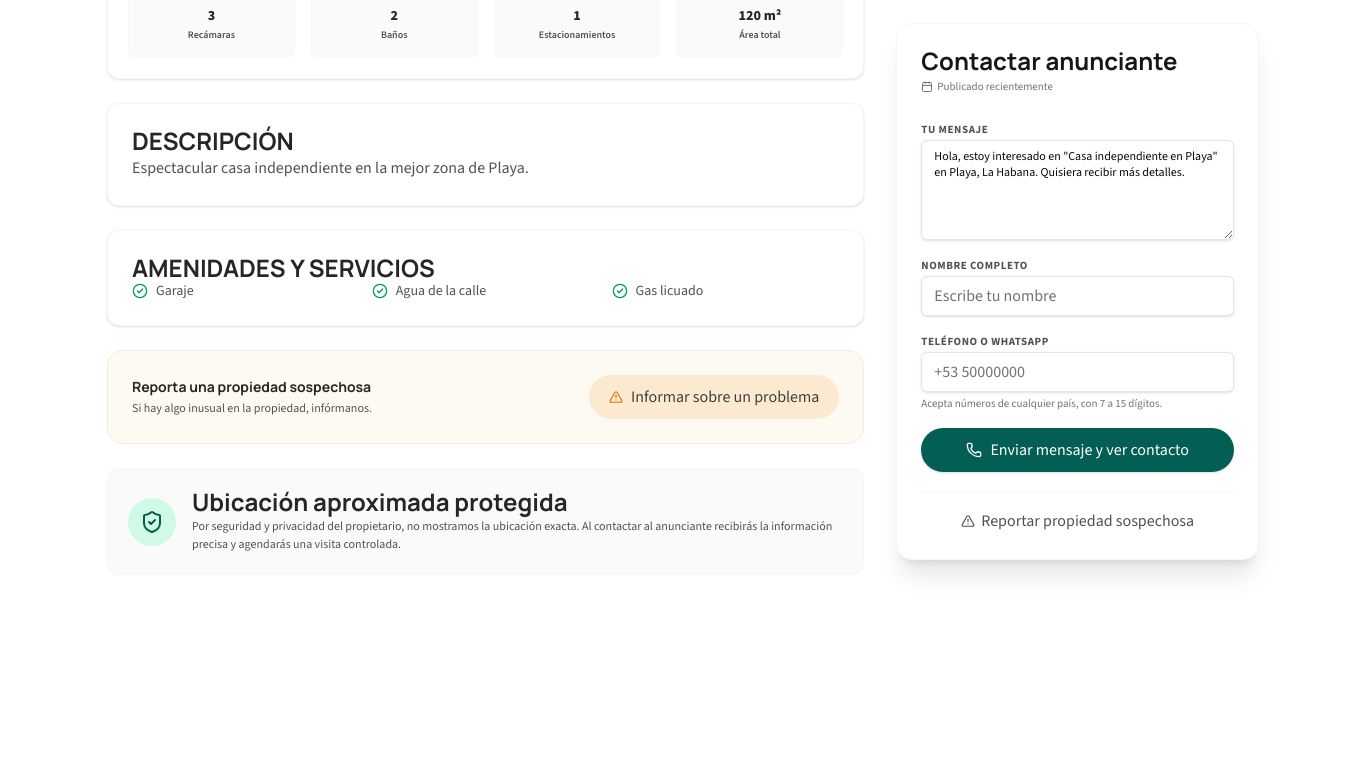
Test: DetailPage - Reportes y Visor › debería enviar el reporte mediante el endpoint protegido al rellenar el formulario
(page scrolled)
# Abrir modal
Click the button "Reportar propiedad sospechosa" at [1078, 521], box [961,509,1194,533]
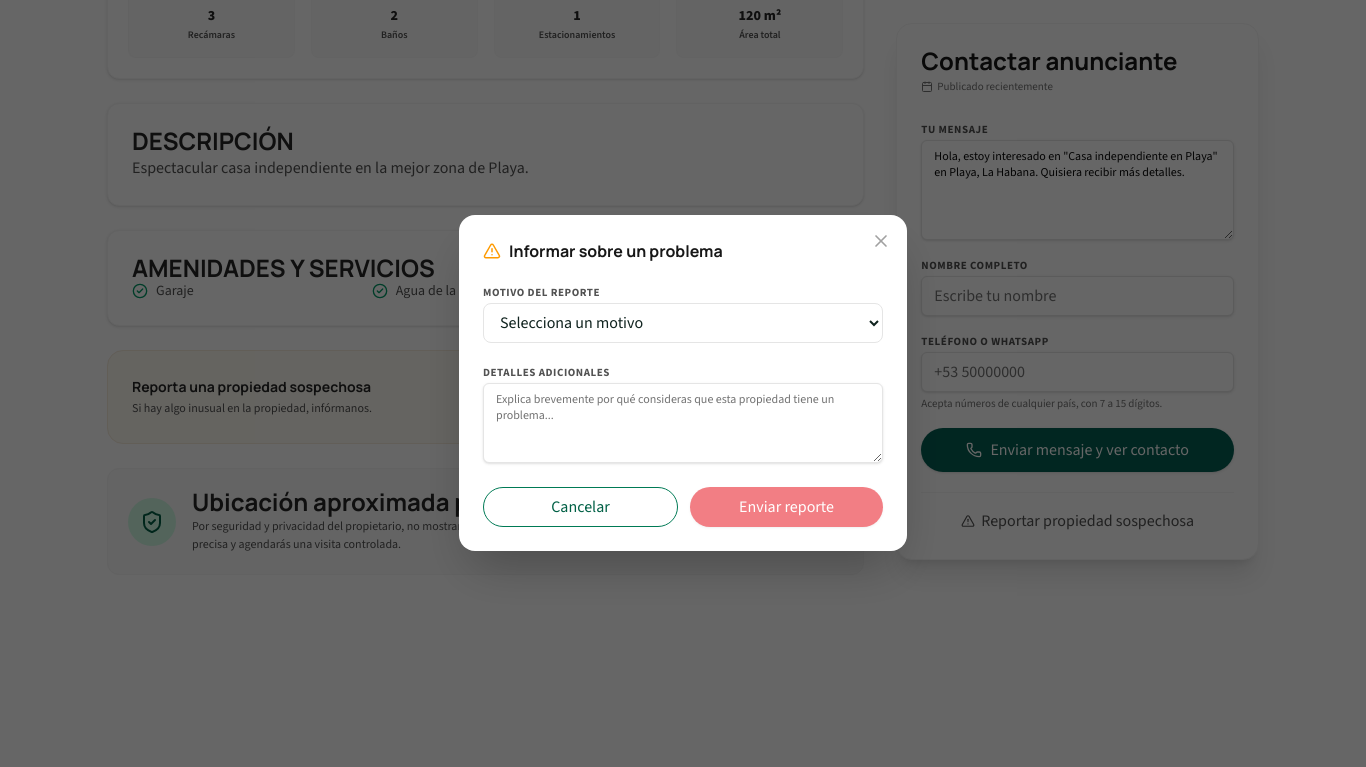
# Seleccionar motivo
Select "Fraude o estafa" in the dropdown at [683, 323], box [483,303,883,343]
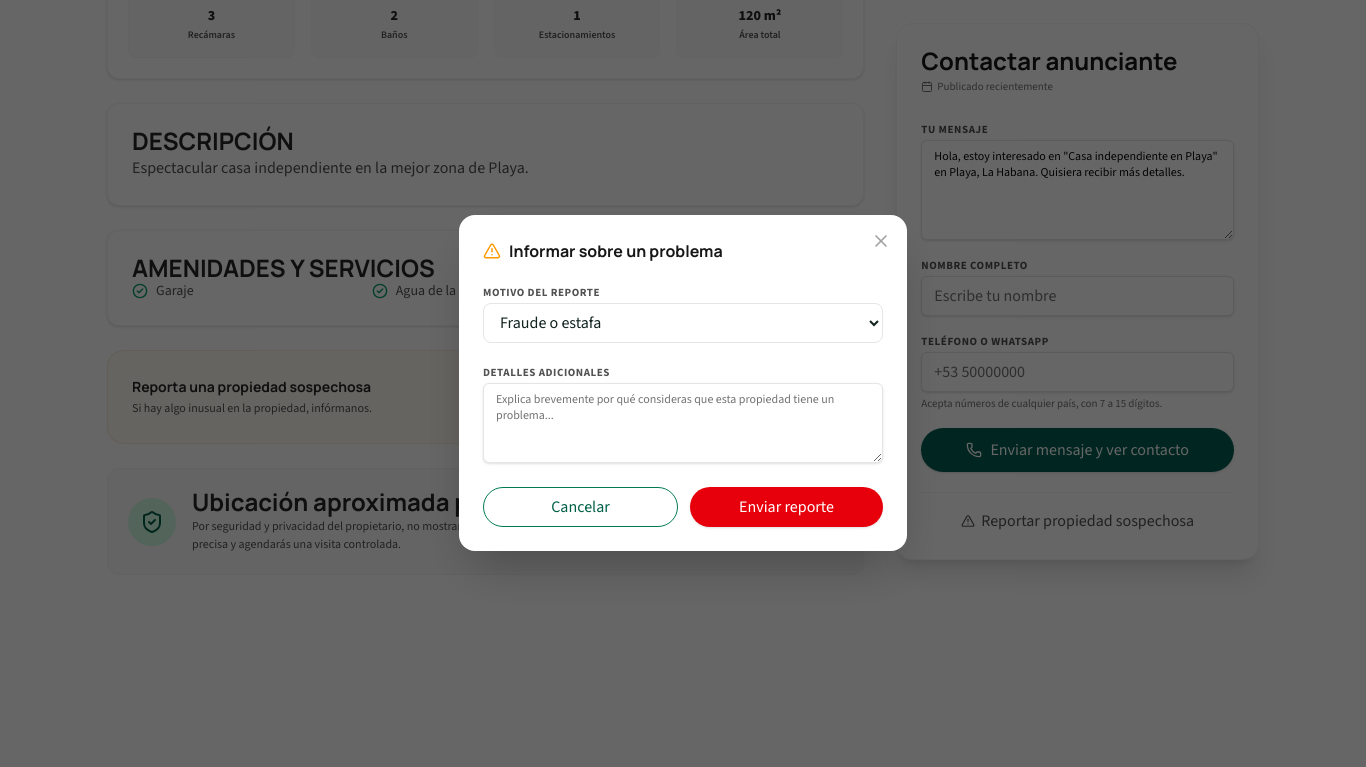
# Escribir comentarios adicionales
Replace the text in the text box with placeholder "Explica brevemente" with "Esta casa no es del anunciante actual." at [683, 423], box [483,383,883,463]
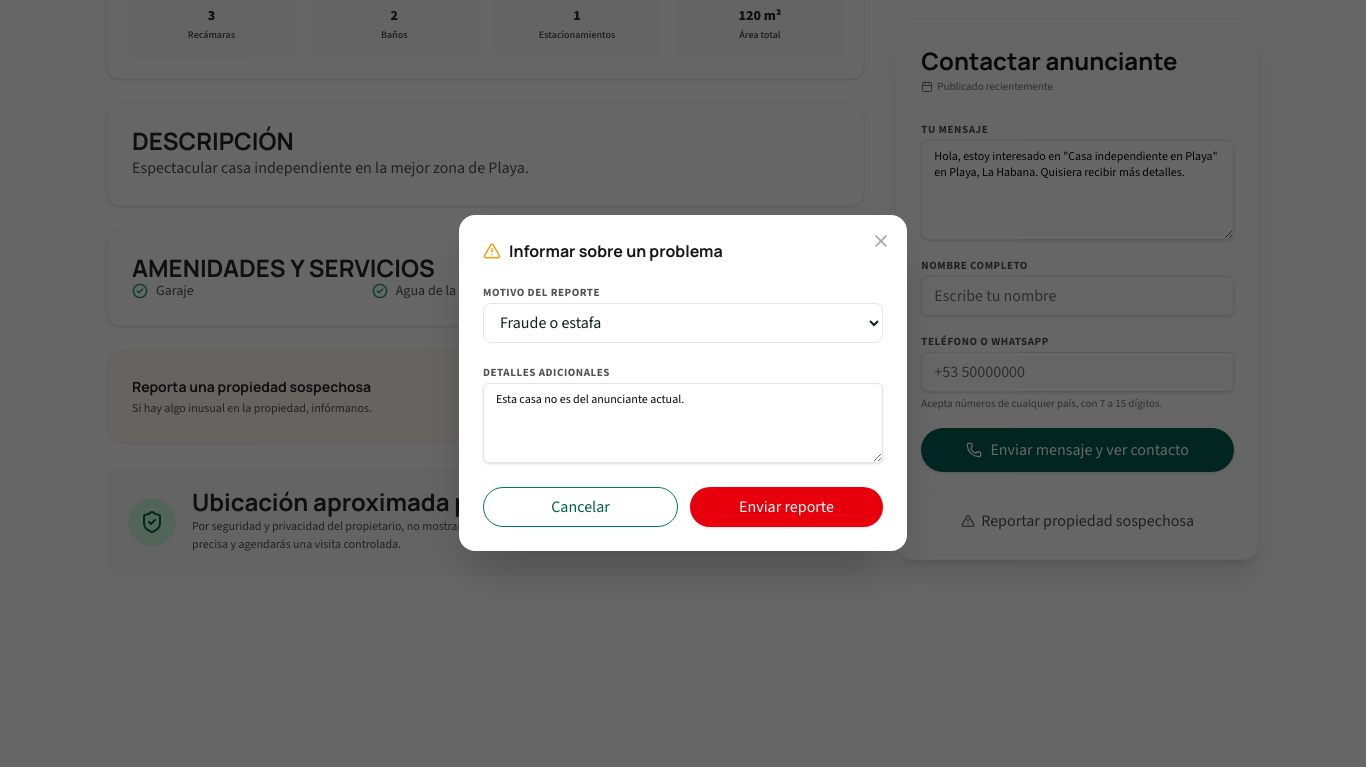
# Hacer clic en Enviar
Click the button "Enviar reporte" at [786, 507], box [690,487,883,527]
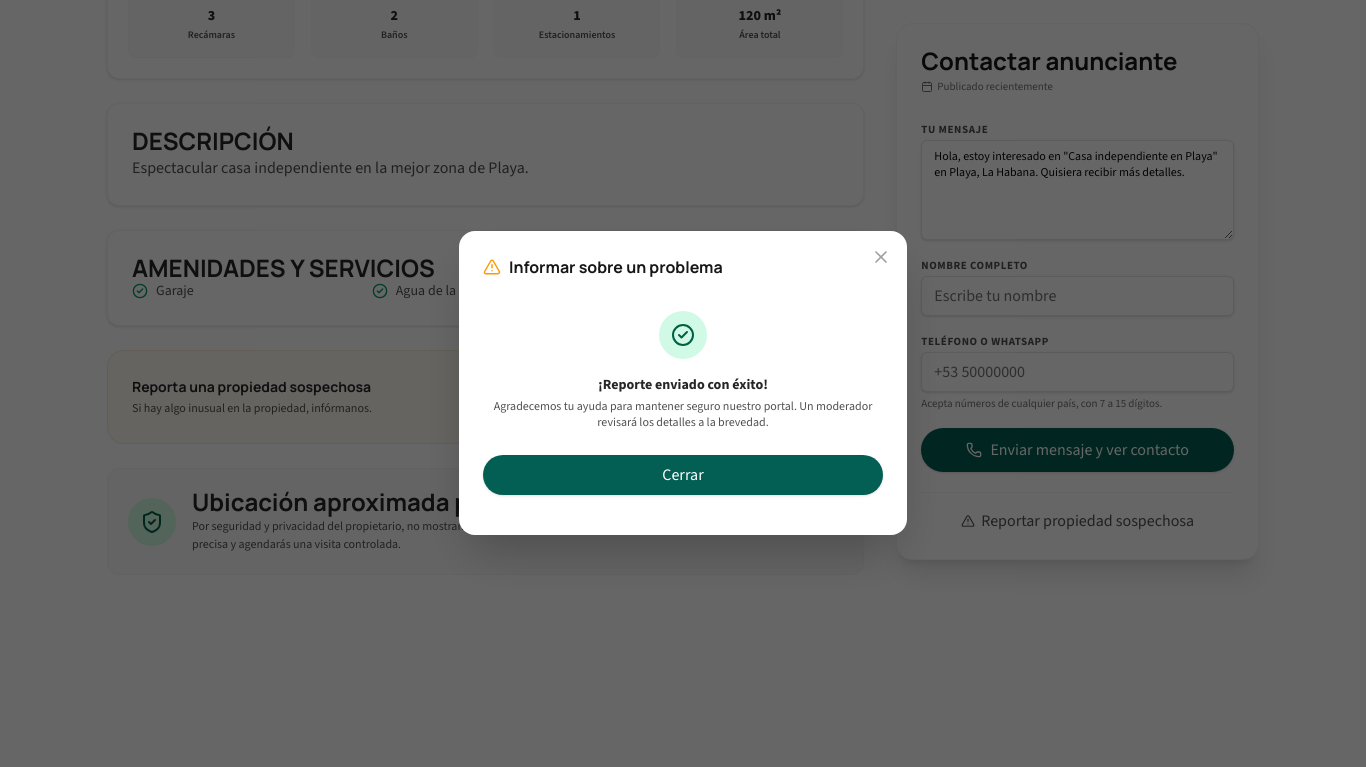
Now the heading "¡Reporte enviado con éxito!" is shown, box [598,375,768,395]
